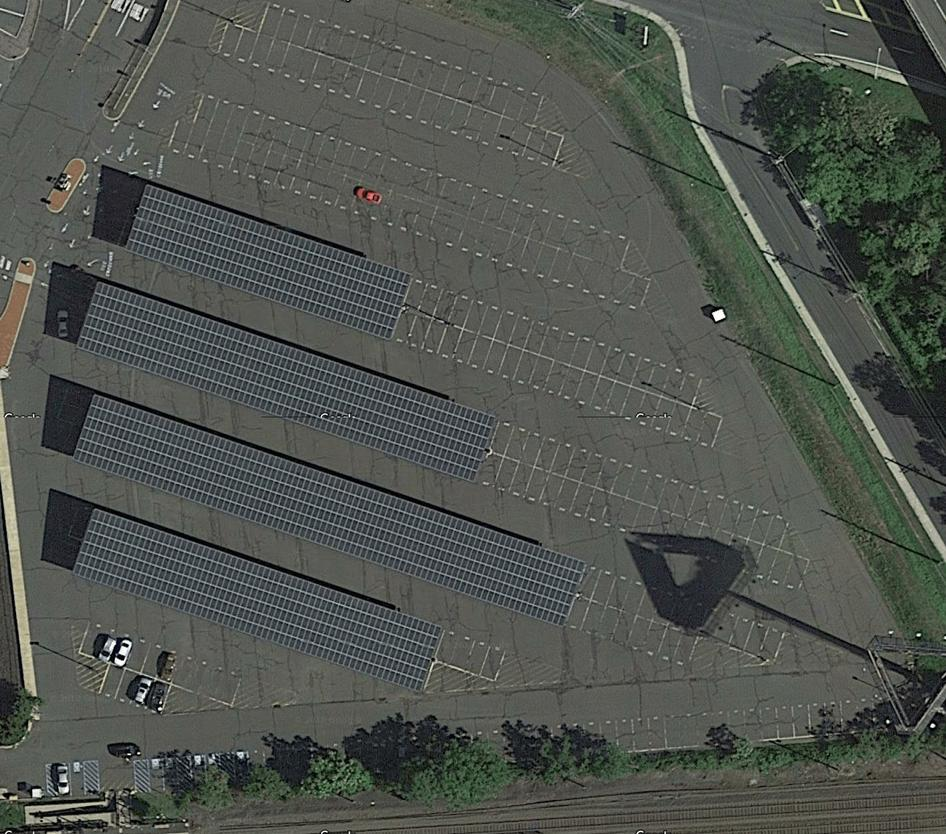parkingspot: (166, 118, 652, 316), (192, 90, 633, 272), (216, 21, 565, 171), (473, 450, 811, 595), (389, 306, 724, 451), (401, 273, 704, 409), (487, 417, 791, 551), (257, 0, 546, 128), (575, 562, 788, 664), (550, 696, 889, 752), (77, 619, 246, 707), (563, 593, 701, 671), (433, 625, 509, 682), (97, 662, 173, 717), (55, 759, 87, 799), (146, 755, 179, 793), (232, 749, 267, 784), (470, 728, 507, 761), (189, 752, 221, 789)
